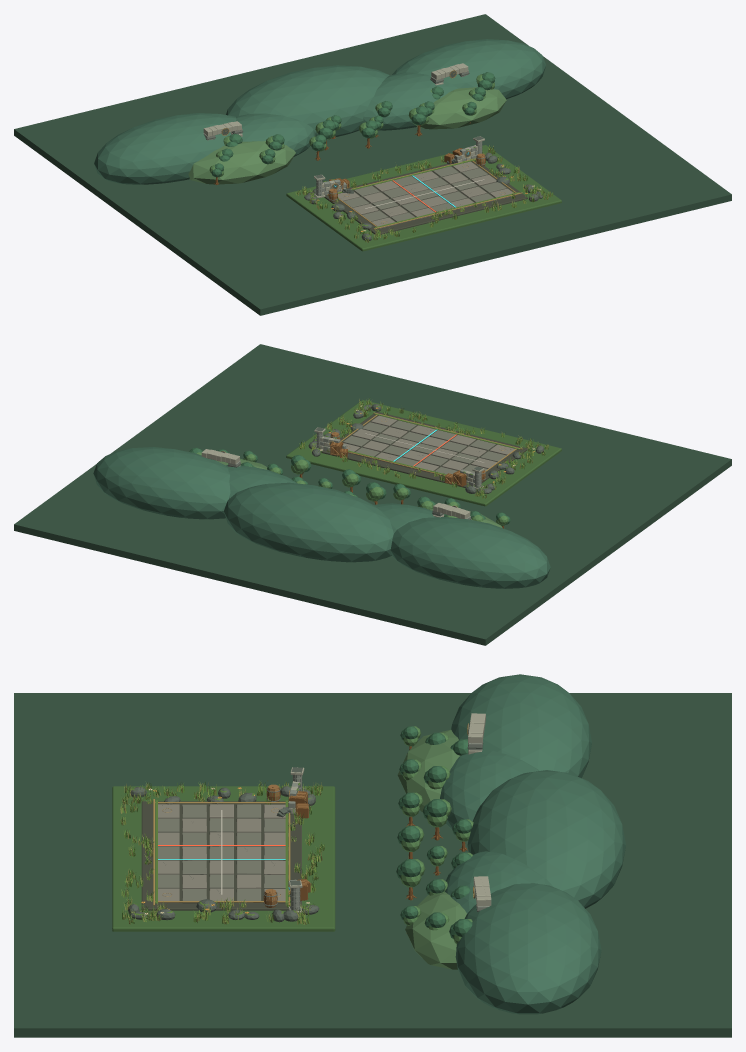
Rendered from qq_battlefield.glb.
3 views of the same model, one above another, from view 1: azimuth 30°, elevation 25°; view 2: azimuth 150°, elevation 25°; view 3: azimuth 270°, elevation 25° (orthographic). The views are drawn at different scales.
Parts seen in each view (by area): view 1: BattleWorldGround, BattleDistantHills, ArenaTiles, BattleMeadow, BattleDistantRidges, BattleDistantTreeCanopies, BattleGrass, ArenaBase, BattleRocks, ArenaBorders, BattleRuinClusterLeft; view 2: BattleWorldGround, BattleDistantHills, BattleMeadow, ArenaTiles, BattleDistantTreeCanopies, BattleGrass, ArenaBase, BattleRocks, ArenaBorders, ArenaCrates; view 3: BattleWorldGround, BattleDistantHills, BattleMeadow, ArenaTiles, BattleDistantTreeCanopies, BattleDistantRidges, ArenaBase, BattleGrass, BattleRocks, ArenaBorders, BattleDistantRuinLeft, ArenaCrates.
Part boxes in pixels (x1=…): BattleWorldGround: x1=14, y1=14, x2=731, y2=315; BattleDistantHills: x1=94, y1=39, x2=545, y2=184; ArenaTiles: x1=335, y1=161, x2=515, y2=228; BattleMeadow: x1=286, y1=145, x2=561, y2=251; BattleDistantRidges: x1=188, y1=87, x2=506, y2=184; BattleDistantTreeCanopies: x1=209, y1=72, x2=495, y2=177; BattleGrass: x1=295, y1=145, x2=553, y2=242; ArenaBase: x1=324, y1=161, x2=527, y2=235; BattleRocks: x1=304, y1=152, x2=543, y2=240; ArenaBorders: x1=327, y1=158, x2=522, y2=229; BattleRuinClusterLeft: x1=314, y1=174, x2=353, y2=198; BattleWorldGround: x1=14, y1=344, x2=731, y2=645; BattleDistantHills: x1=93, y1=447, x2=550, y2=588; BattleMeadow: x1=286, y1=400, x2=561, y2=506; ArenaTiles: x1=343, y1=415, x2=514, y2=476; BattleDistantTreeCanopies: x1=189, y1=447, x2=510, y2=526; BattleGrass: x1=299, y1=398, x2=548, y2=498; ArenaBase: x1=321, y1=411, x2=527, y2=487; BattleRocks: x1=308, y1=404, x2=544, y2=493; ArenaBorders: x1=340, y1=412, x2=522, y2=475; ArenaCrates: x1=330, y1=442, x2=466, y2=486; BattleWorldGround: x1=14, y1=693, x2=731, y2=1037; BattleDistantHills: x1=440, y1=674, x2=625, y2=1014; BattleMeadow: x1=112, y1=786, x2=335, y2=931; ArenaTiles: x1=158, y1=804, x2=288, y2=903; BattleDistantTreeCanopies: x1=396, y1=726, x2=473, y2=944; BattleDistantRidges: x1=397, y1=729, x2=466, y2=969; ArenaBase: x1=141, y1=801, x2=301, y2=910; BattleGrass: x1=120, y1=780, x2=324, y2=924; BattleRocks: x1=128, y1=785, x2=319, y2=922; ArenaBorders: x1=153, y1=799, x2=290, y2=905; BattleDistantRuinLeft: x1=467, y1=713, x2=485, y2=754; ArenaCrates: x1=288, y1=791, x2=310, y2=900.
Bounding box in the file's own units: 42 × 5.3 × 38.
